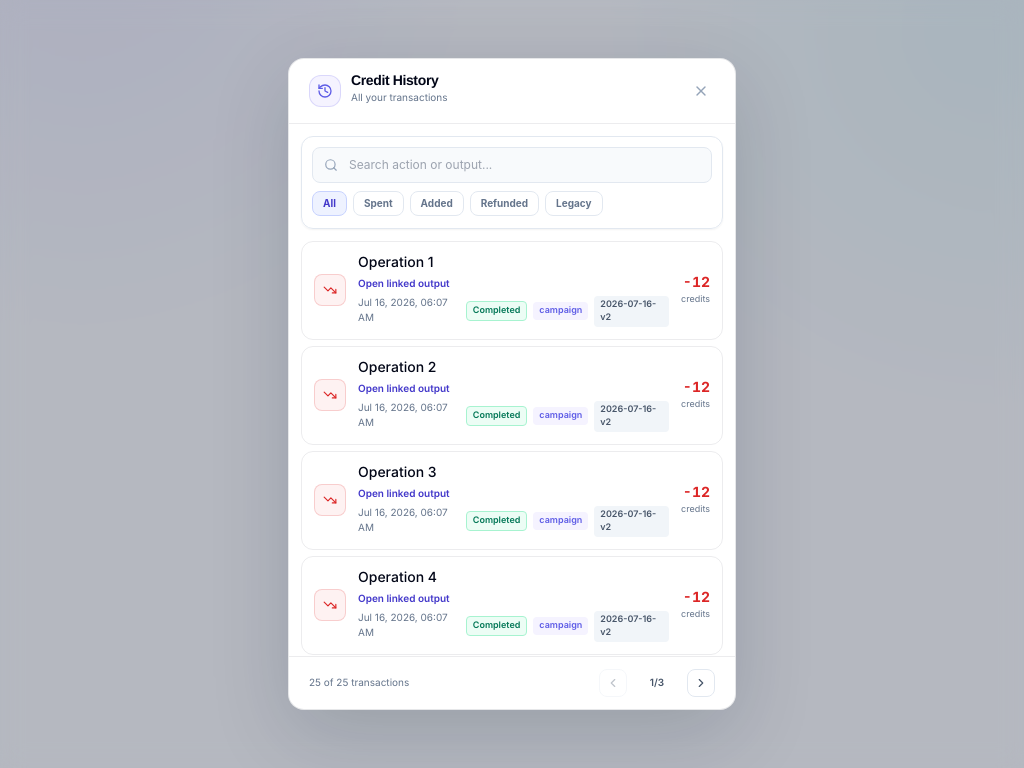
Test case: CreditHistoryModal browsing controls › paginates long ledgers and supports a real search
This screenshot has width=1024, height=768.
Expected: the text "Operation 1" is shown, [358, 254, 434, 271]
Expected: the text "1/3" is shown, [650, 677, 664, 689]
Click the button named "Next page" at (701, 683), box [687, 669, 715, 697]
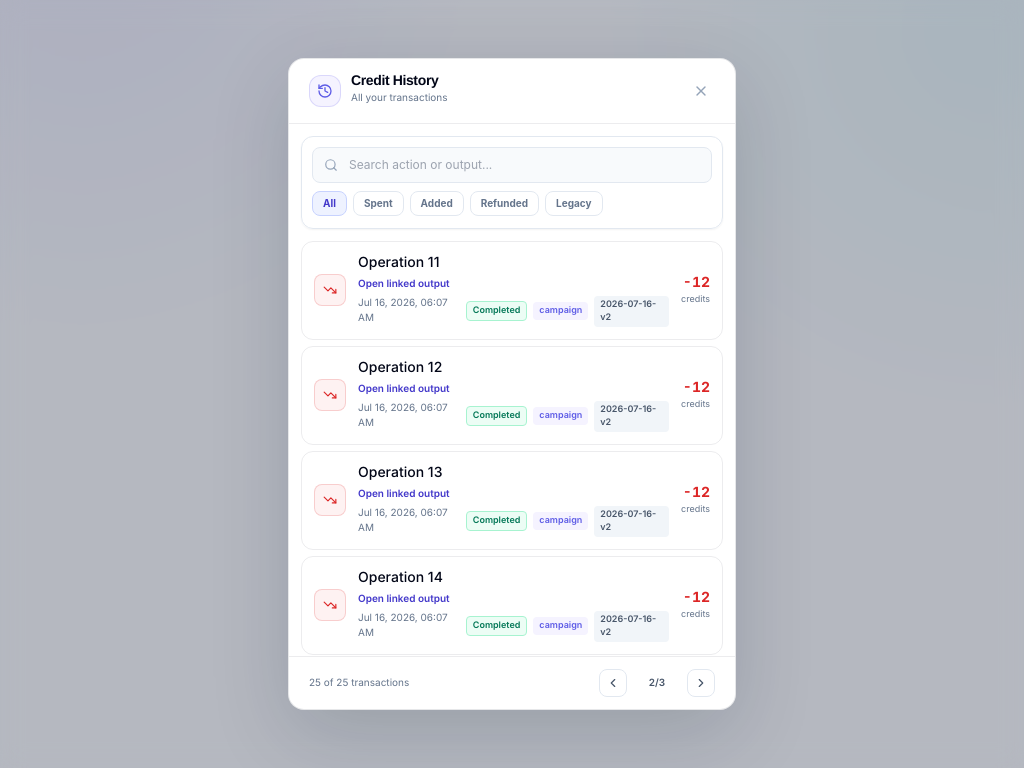
Result: the text "Operation 11" is shown at [358, 254, 439, 271]
Result: the text "2/3" is shown at [649, 677, 665, 689]
Type "Operation 25" into the search field named "Search credit history" at (512, 165), box [312, 147, 712, 183]
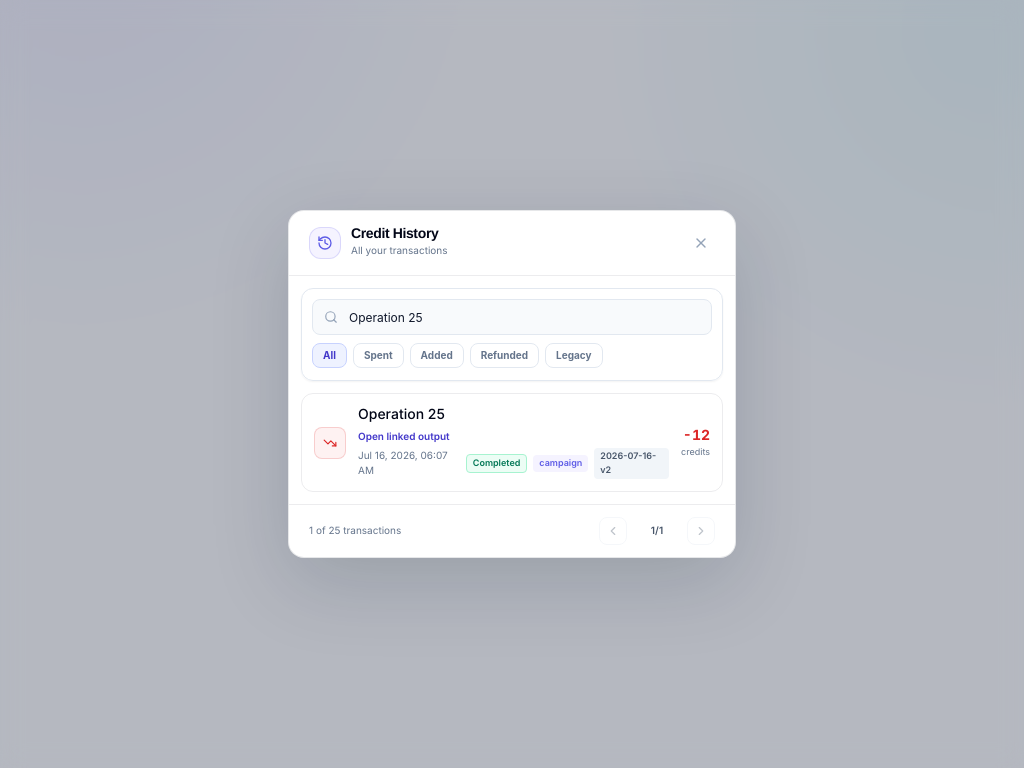
Result: the text "Operation 25" is shown at [358, 406, 445, 423]
Result: the text "1/1" is shown at [651, 524, 663, 536]
